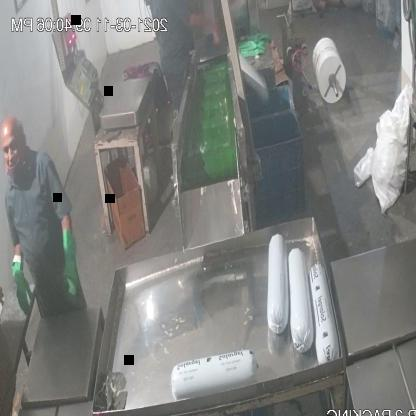glove: (56, 218, 81, 315)
